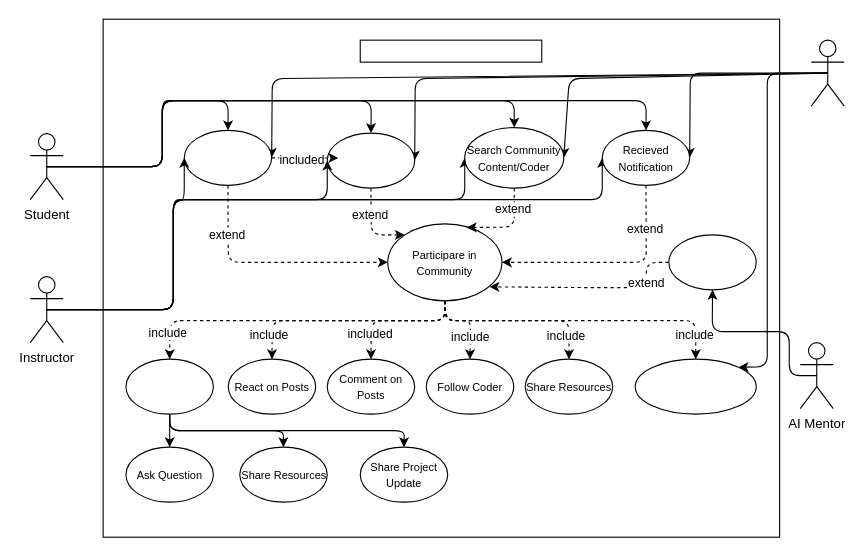
Some shapes in this 865 by 557 pixel diagram are drawn without their labels. Each missing label, with the centre of its shape:
"Access Chat" belongs at pixel 370 160.
"Admin" belongs at pixel 827 72.
"Community System" belongs at pixel 450 50.
"Create Post" belongs at pixel 169 386.
"Join Study Group" belongs at pixel 227 157.
"Manage Organization/Groups" belongs at pixel 695 386.
"Suggest Content" belongs at pixel 712 262.
